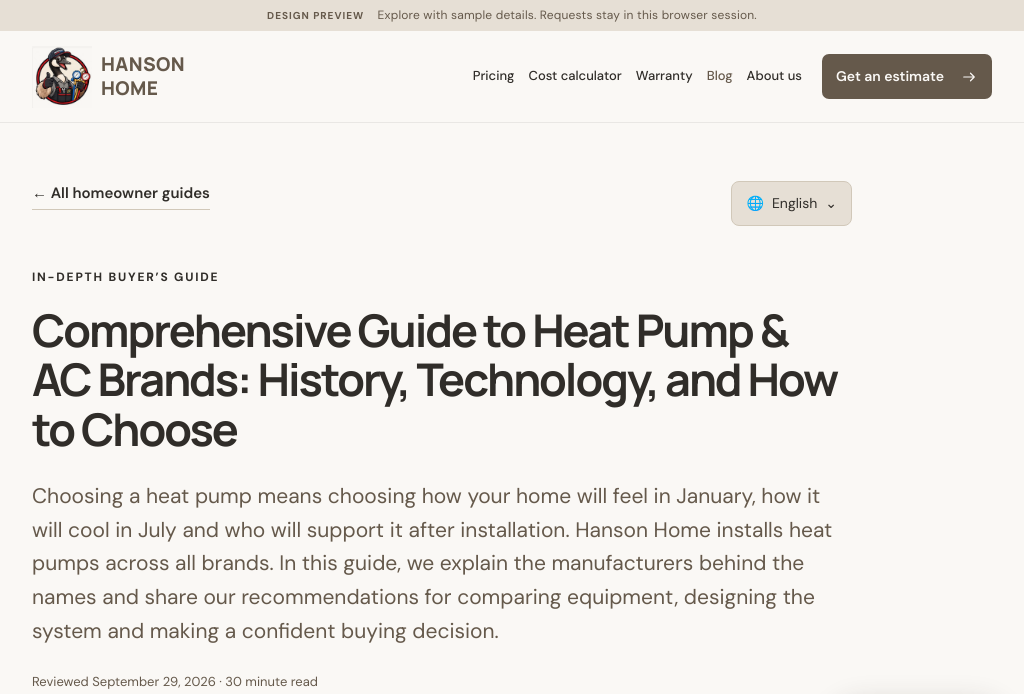
Test: the language button switches the complete article and document language
The width and height of the screenshot is (1024, 694).
What coordinates should you click on to do the following:
click the button with aria-label "Article language"
I would click on:
 (792, 203)
Its box is [732, 181, 852, 226].
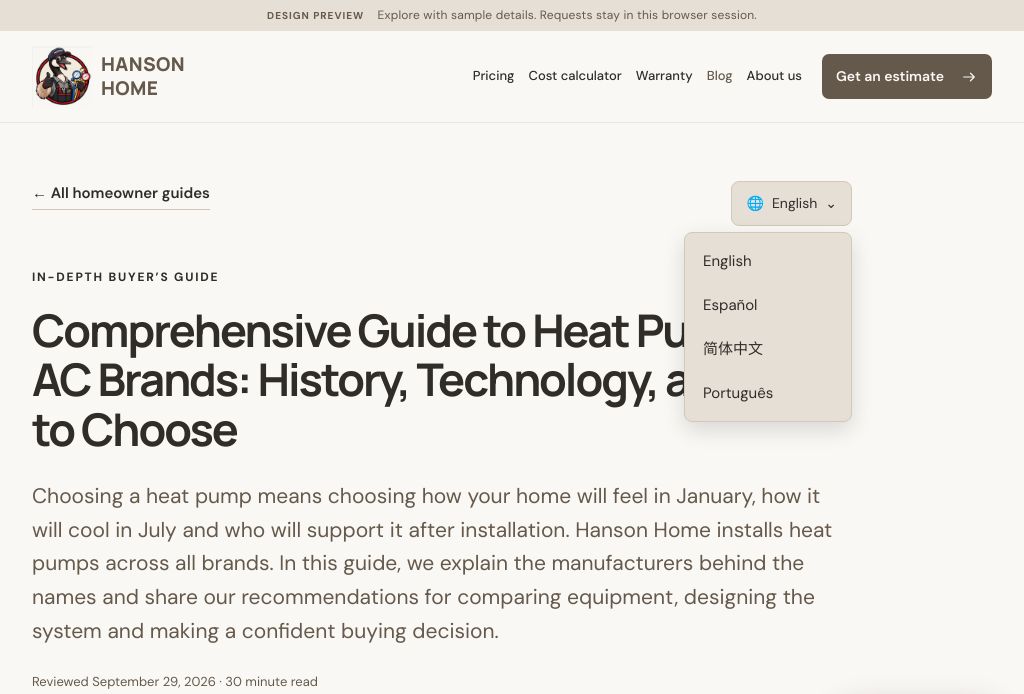
What coordinates should you click on to do the following:
click the link "简体中文"
I would click on:
 (733, 349)
Its box is [703, 339, 763, 359].
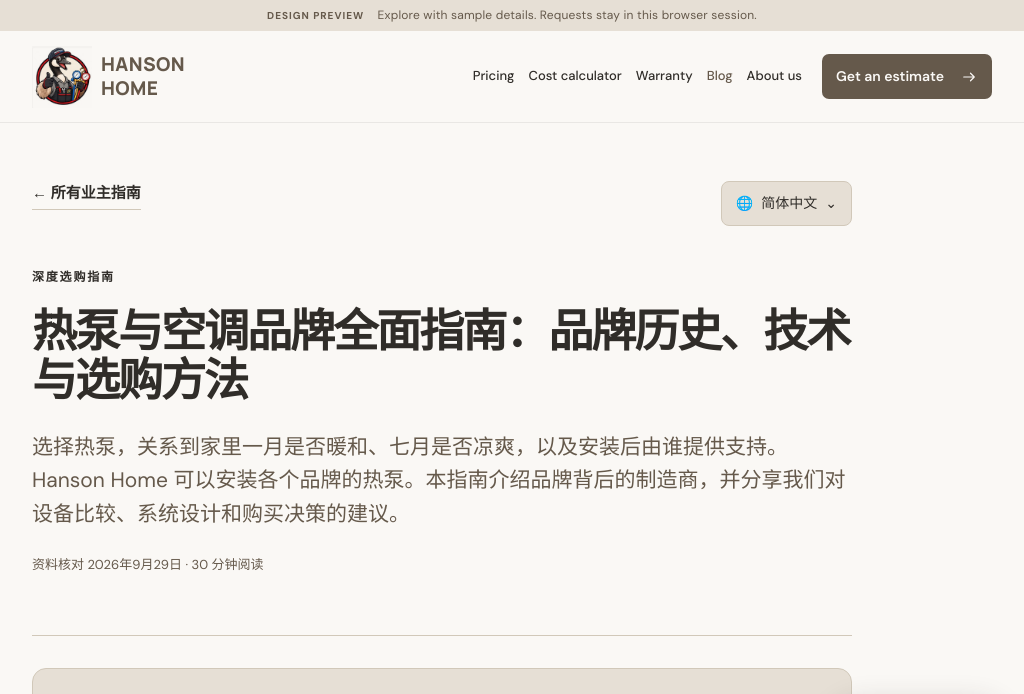
Expected: the heading "热泵与空调品牌全面指南：品牌历史、技术与选购方法" is shown, [32, 306, 852, 405]
Expected: the button with aria-label "文章语言" is collapsed, [721, 181, 852, 226]
